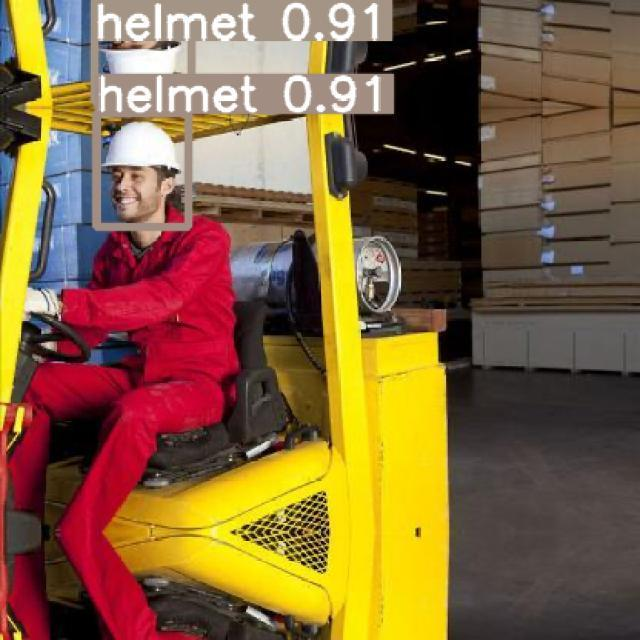white helmet: (101, 121, 185, 170)
